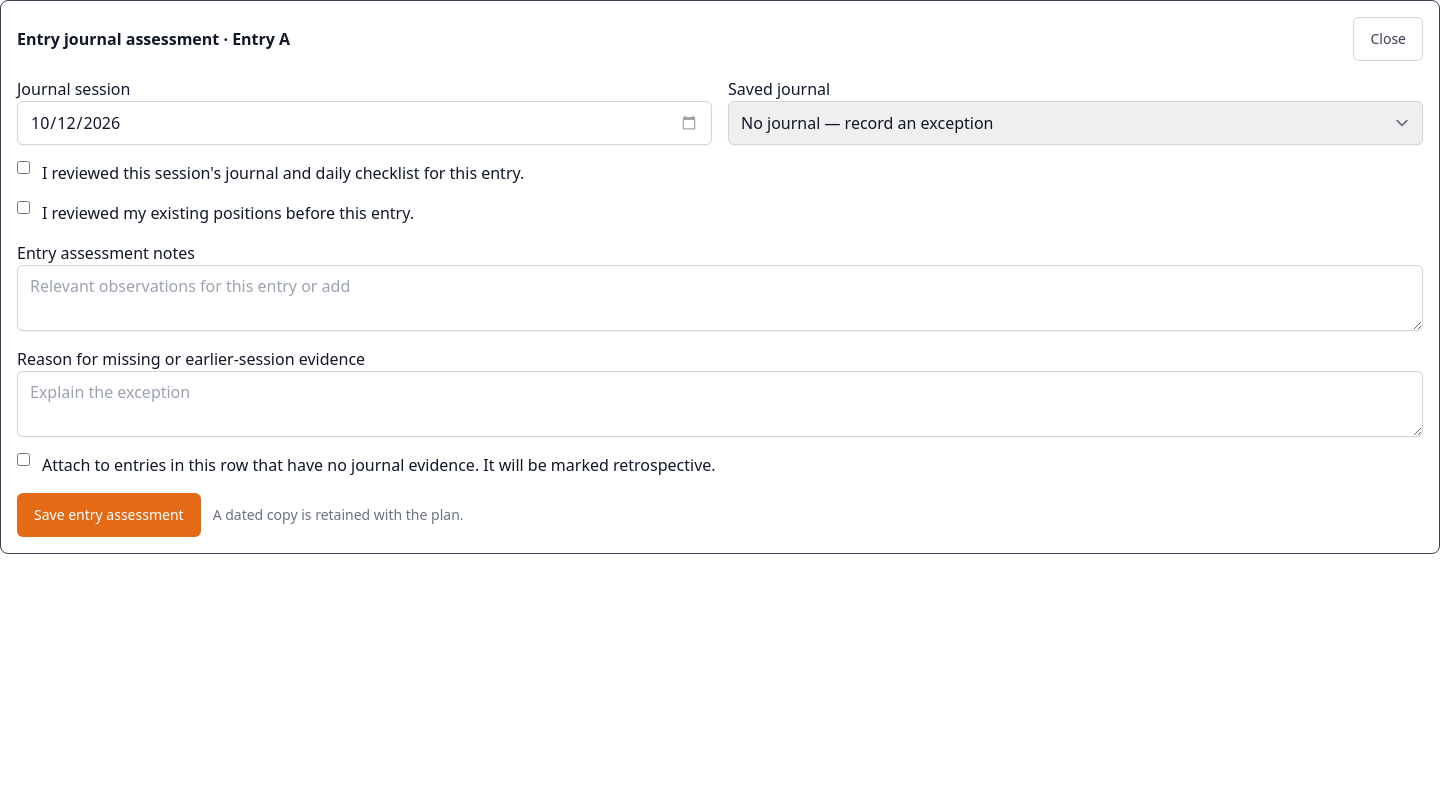
Test: Entry journal assessment › requires fresh confirmation when refreshed source content changes
The width and height of the screenshot is (1440, 810).
Step 1. Select "Synthetic journal · 2026-10-12" in the dropdown labelled "Saved journal" → point(1076, 123), box [728,101,1423,145]
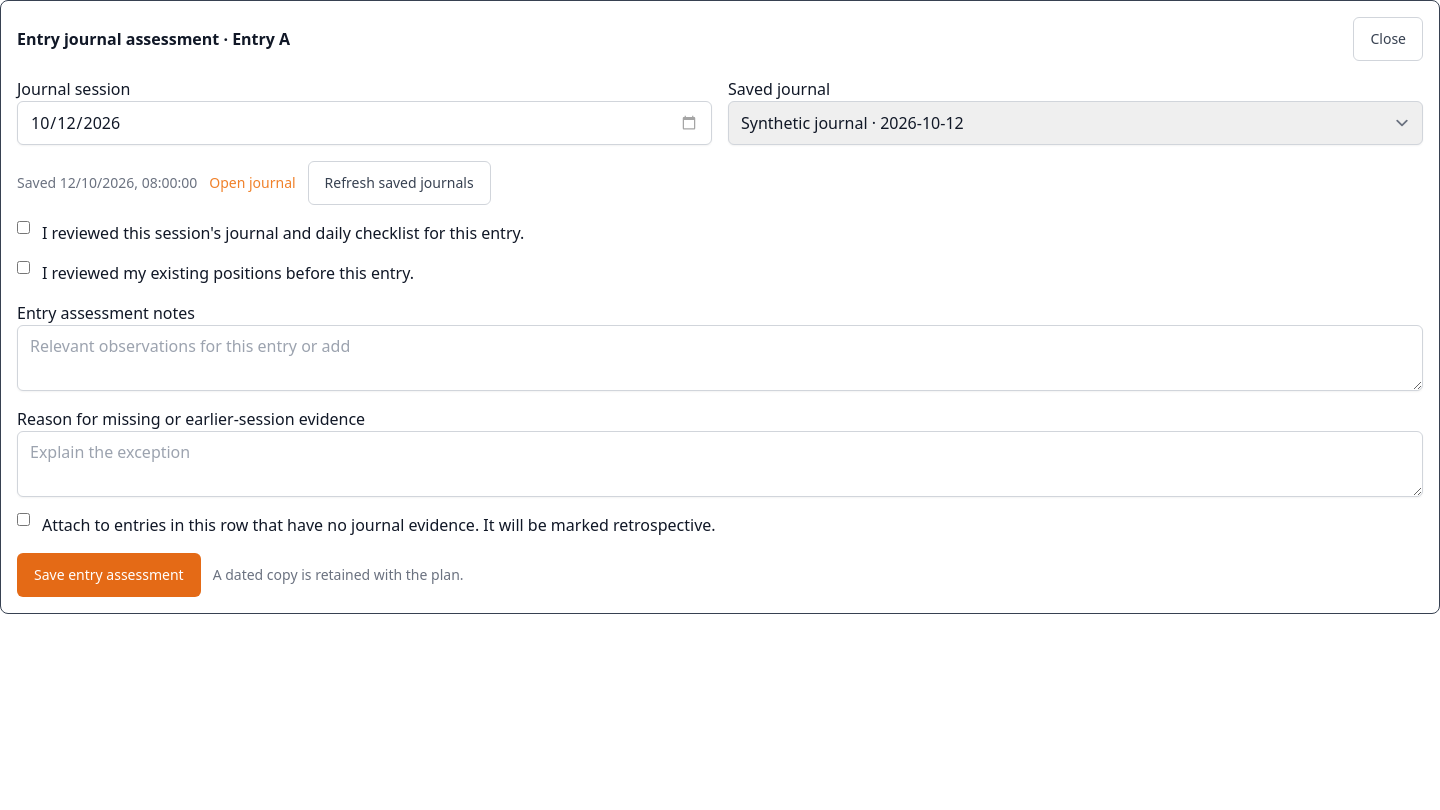
Step 2. Click the 1st checkbox → point(24, 228), box [17,221,30,234]
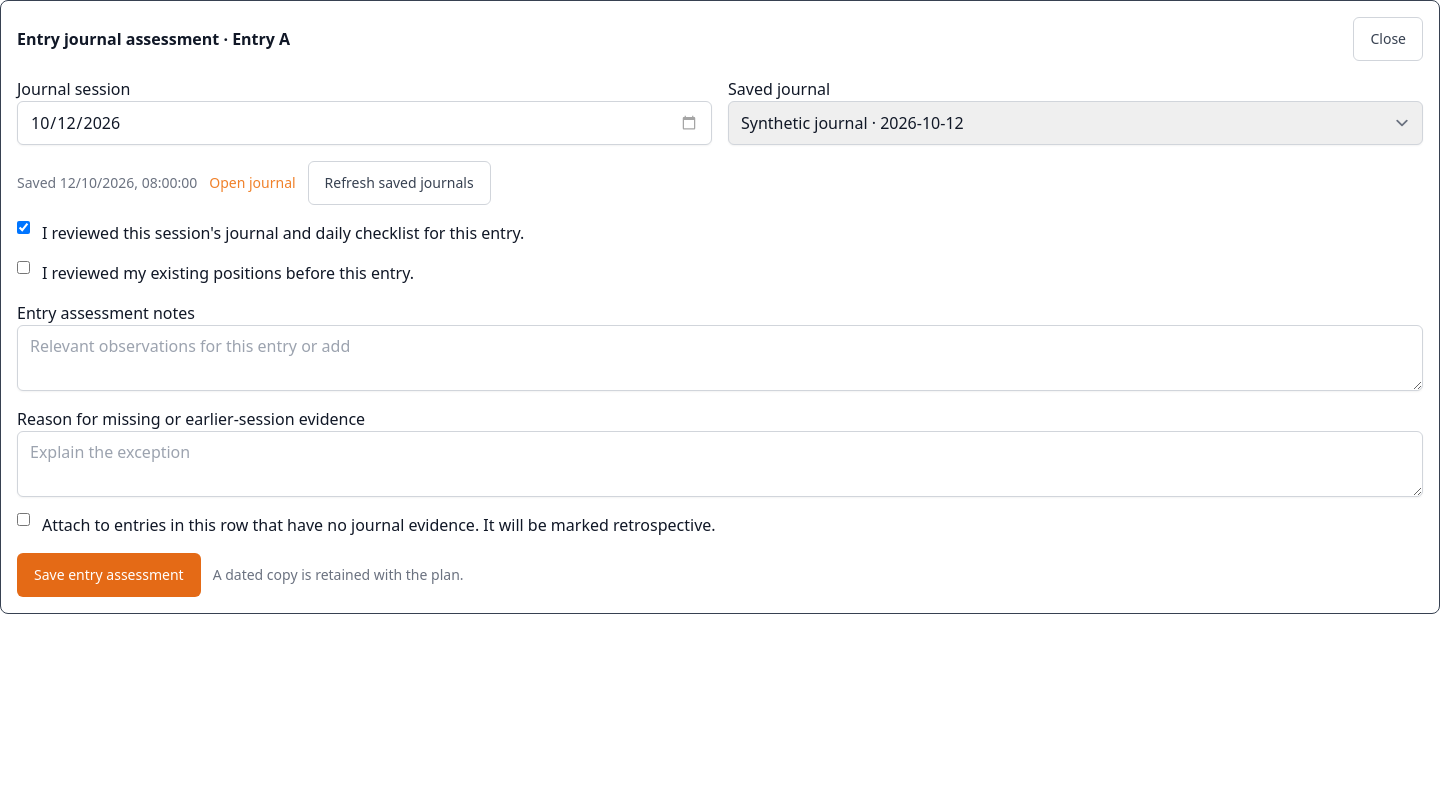
Step 3. Click the checkbox labelled "I reviewed my existing positions before this entry." → point(24, 268), box [17,261,30,274]
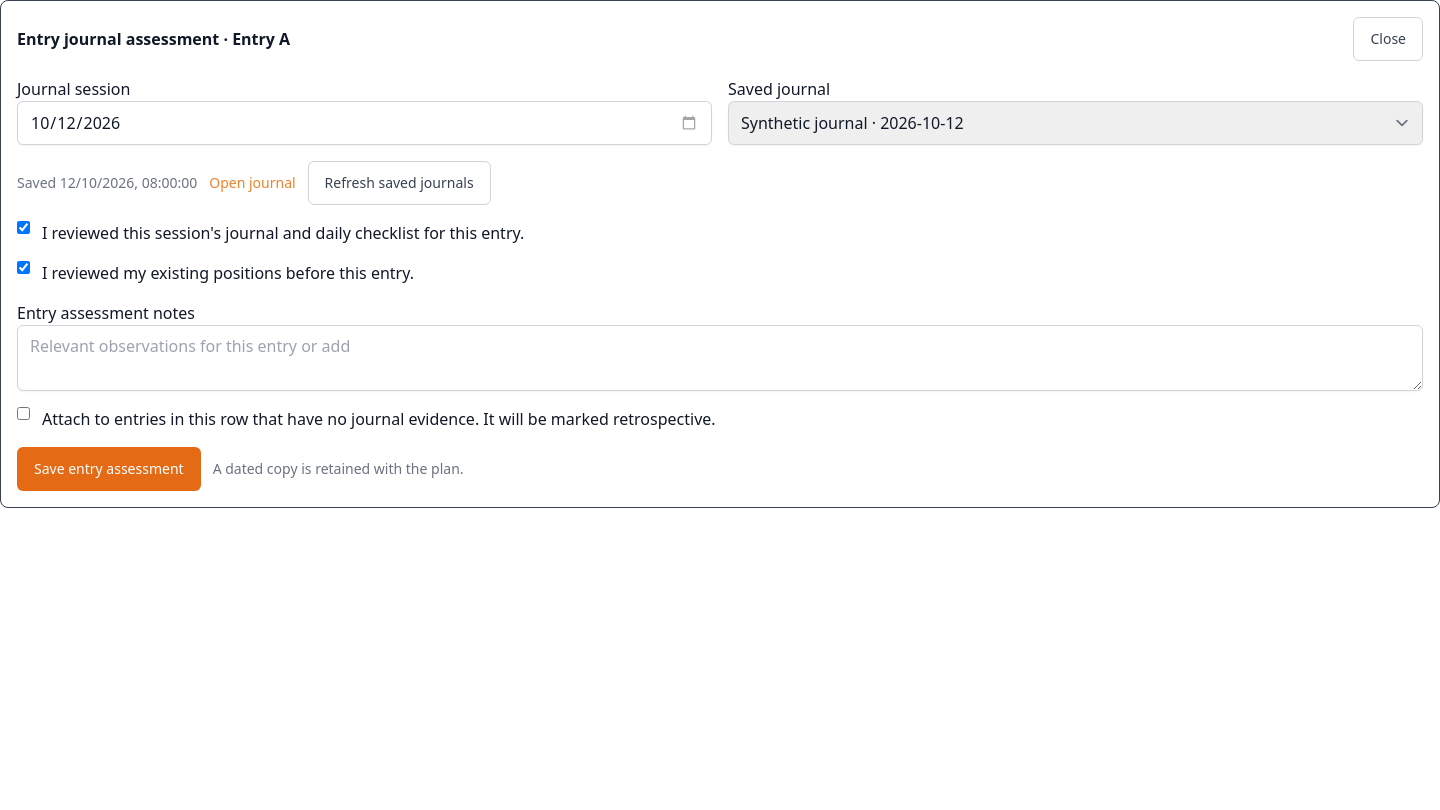
Step 4. Click the button "Refresh saved journals" → point(399, 183), box [308,161,491,205]
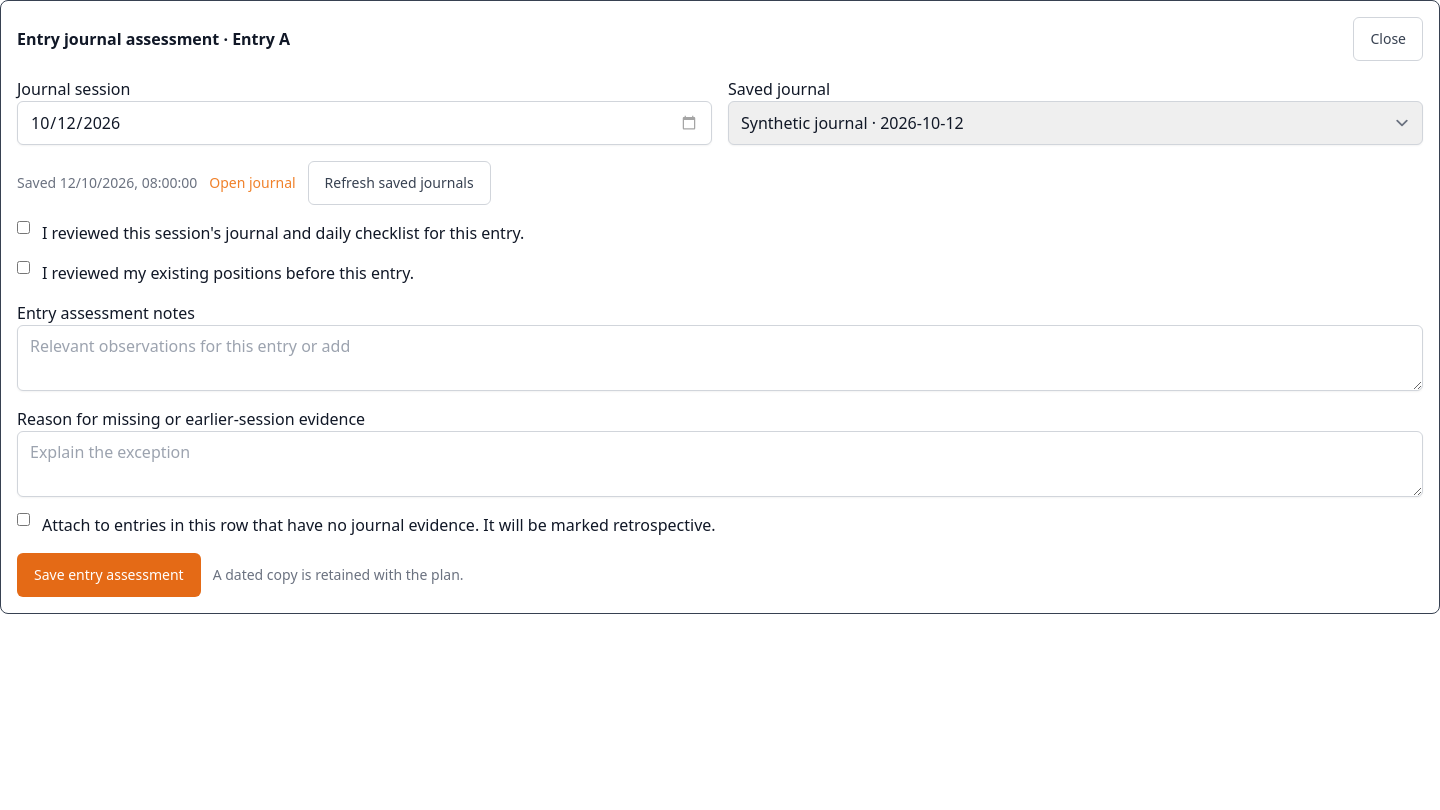
Expected: the 1st checkbox is not checked, [17,221,30,234]
Expected: the button "Save entry assessment" is disabled, [17,553,201,597]
